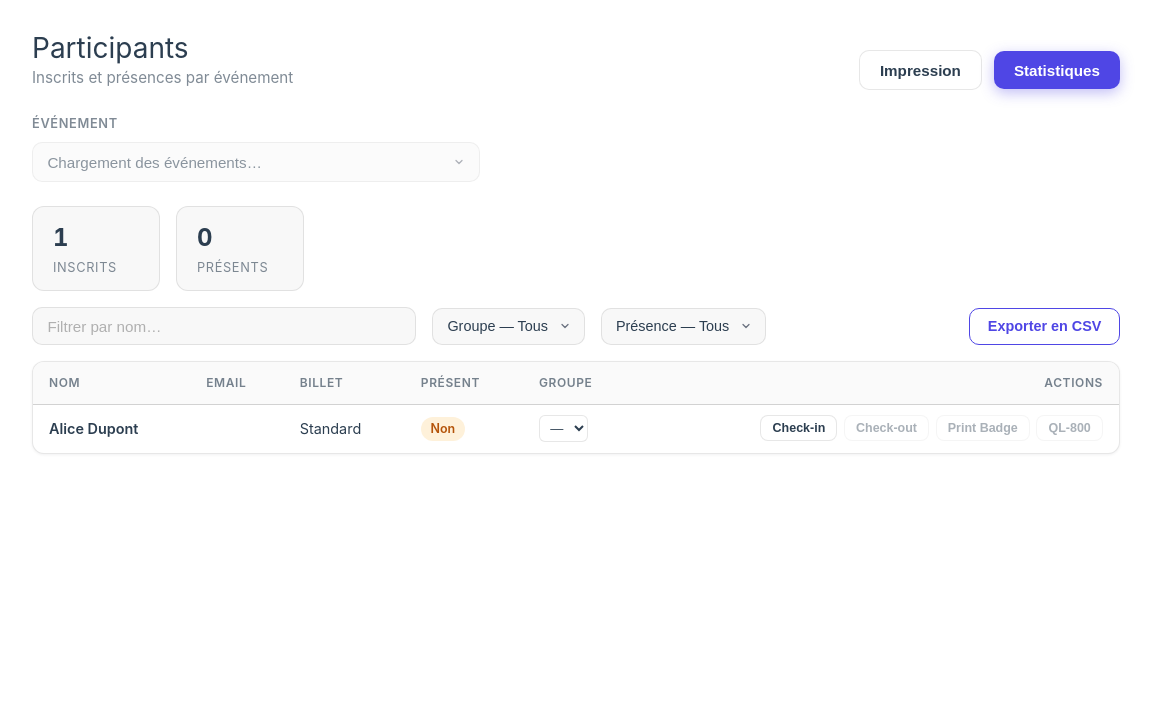
Test case: DashboardView › le bouton Impression ouvre la configuration
What coordinates should you click on to do the following:
click the button "Impression"
I would click on:
 (920, 70)
Its box is [859,50,982,90].
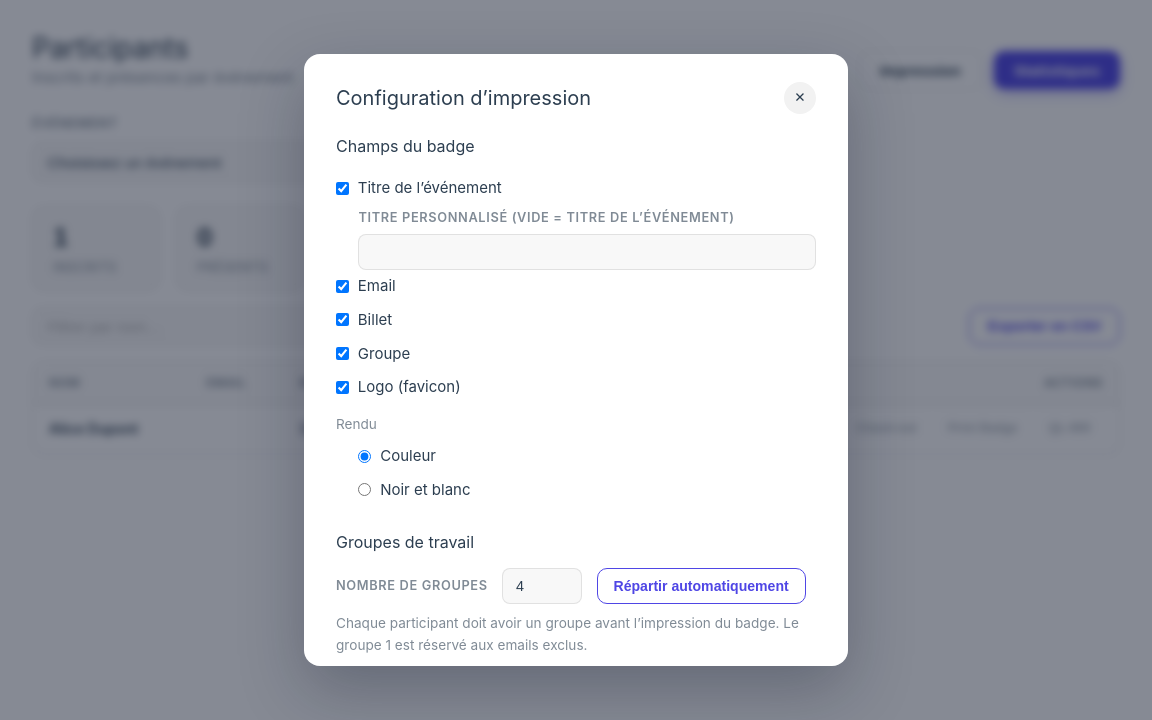
Check: the text "Configuration d’impression" is shown, box [336,82,591,114]
